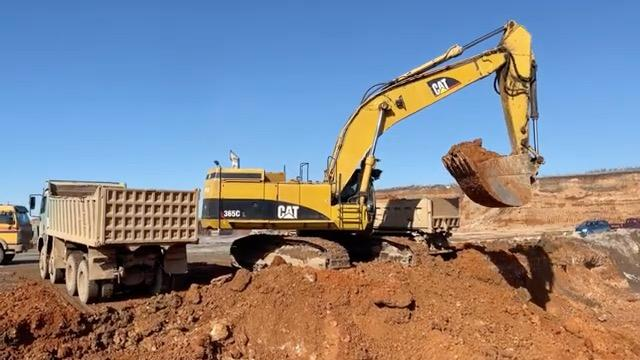excavator: (203, 26, 535, 253)
